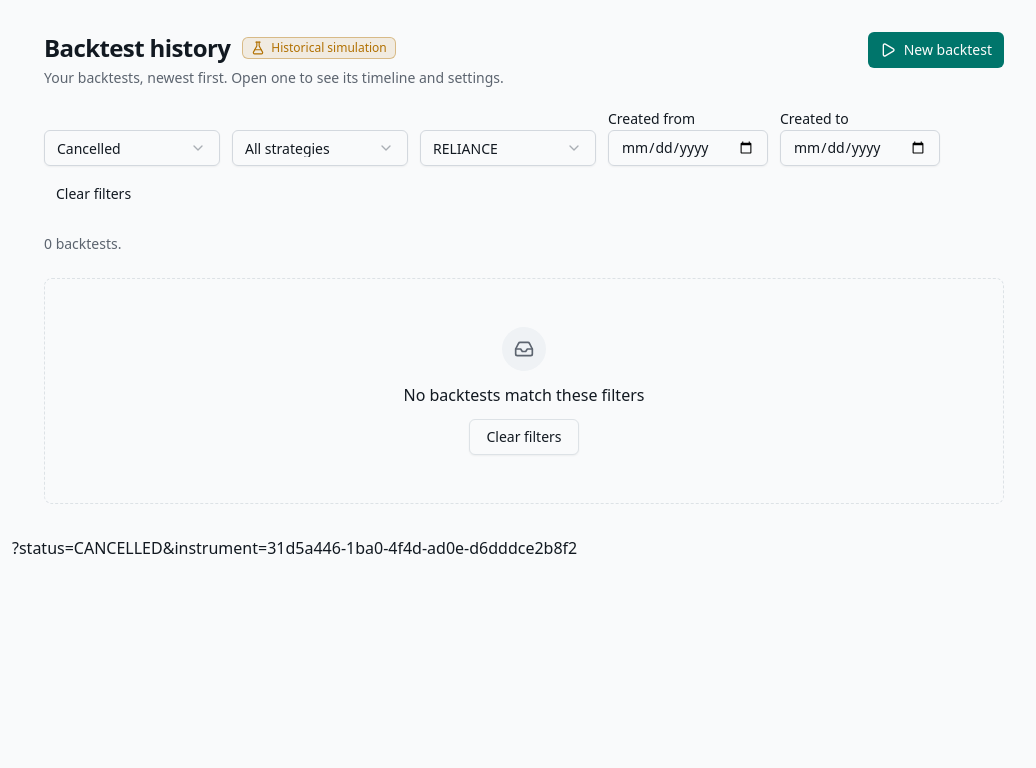
it: BacktestHistoryPage › filters from the address are applied on first load
Expected: the text "No backtests match these filters" is shown, x1=404 y1=383 x2=644 y2=407
Expected: the dropdown named "Status" shows "Cancelled", x1=44 y1=130 x2=220 y2=166
Click the 1st button "Clear filters" at {"x": 94, "y": 194}, box x1=44 y1=178 x2=143 y2=210
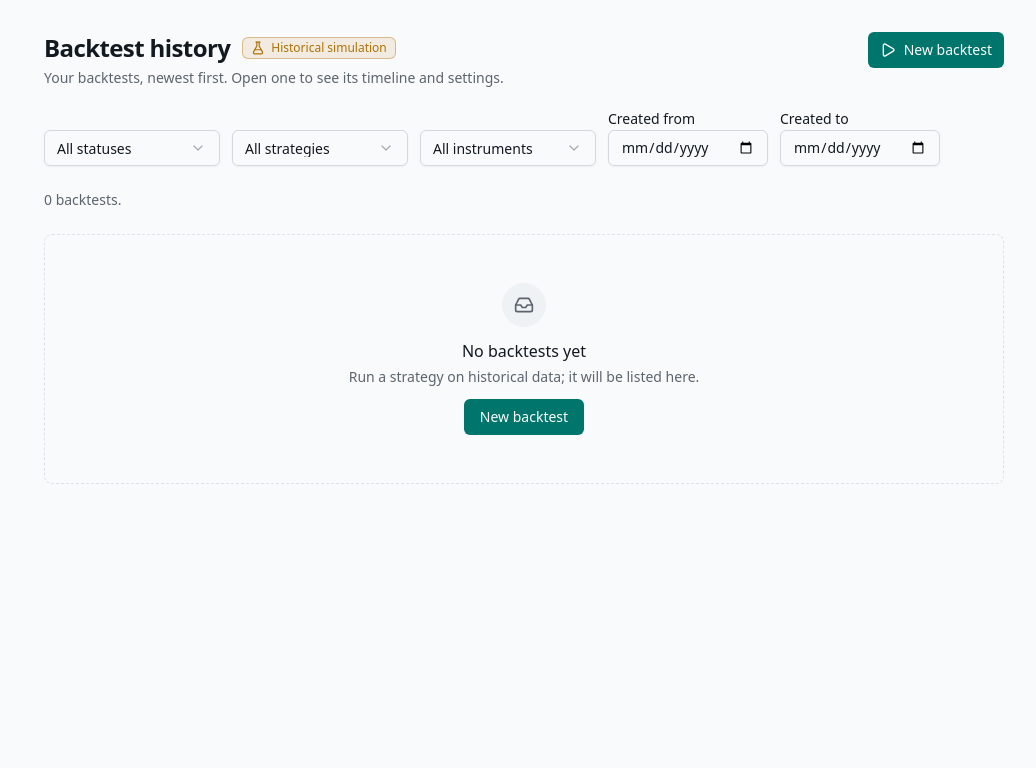
Now the text "No backtests yet" is shown, box x1=462 y1=340 x2=586 y2=362
Now the number of links "New backtest" is 2, box x1=868 y1=32 x2=1004 y2=68; x1=464 y1=399 x2=584 y2=435
